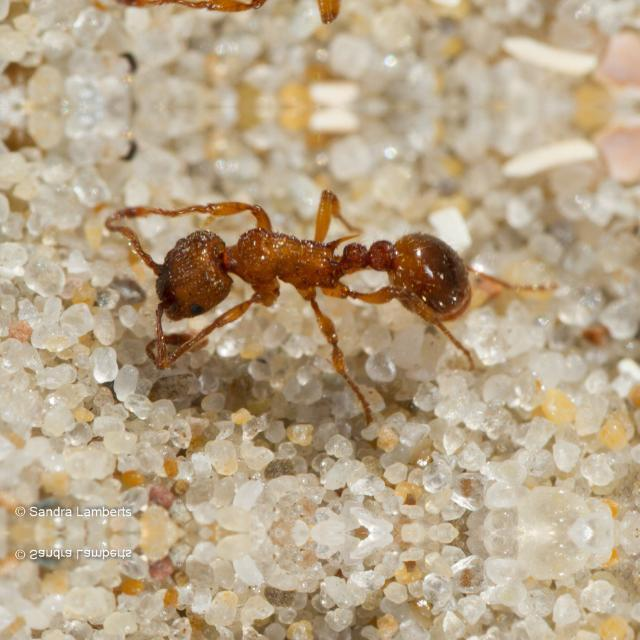Myrmica: (135, 146, 520, 420), (135, 0, 520, 66)
